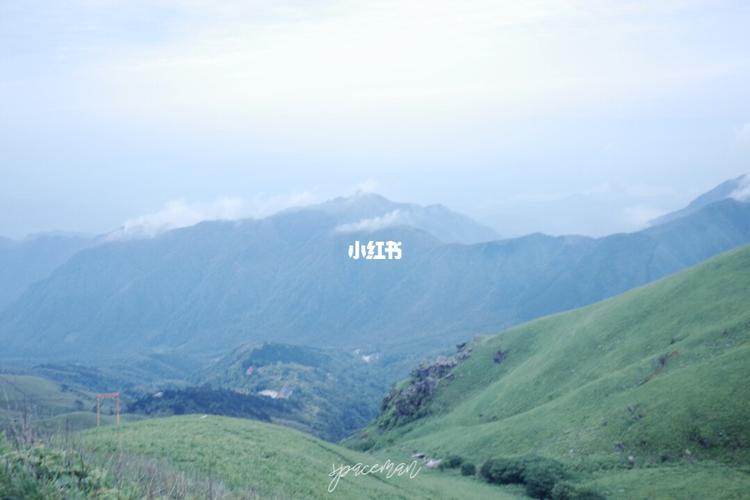mountain: (56, 202, 750, 361), (19, 199, 486, 402), (395, 253, 746, 478)
